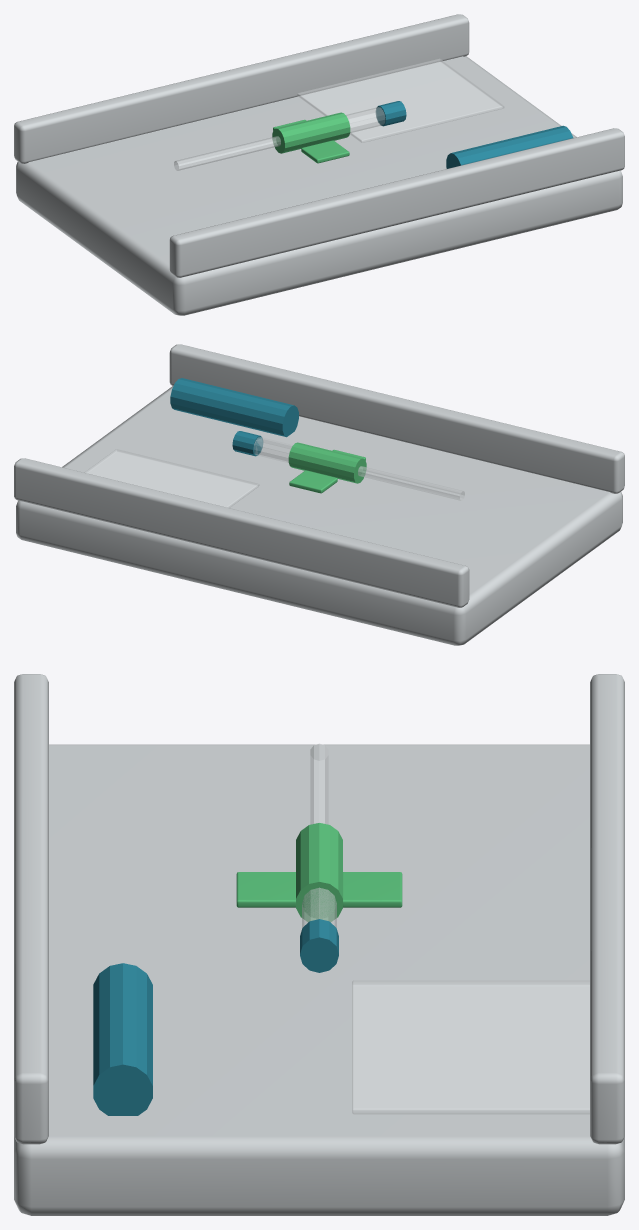
File: iv_cannula_kit.fbx
3 views of the same model, one above another, from view 1: azimuth 30°, elevation 25°; view 2: azimuth 150°, elevation 25°; view 3: azimuth 270°, elevation 25° (orthographic). The views are drawn at different scales.
Visible parts, largest first — view 1: EQ_iv_cannula_kit_Body, EQ_iv_cannula_kit_Rim_S, EQ_iv_cannula_kit_Rim_N, EQ_iv_cannula_kit_Dressing, EQ_iv_cannula_kit_Hub, EQ_iv_cannula_kit_Tourniquet, EQ_iv_cannula_kit_Catheter, EQ_iv_cannula_kit_WingL, EQ_iv_cannula_kit_Port, EQ_iv_cannula_kit_Cap; view 2: EQ_iv_cannula_kit_Body, EQ_iv_cannula_kit_Rim_N, EQ_iv_cannula_kit_Rim_S, EQ_iv_cannula_kit_Dressing, EQ_iv_cannula_kit_Tourniquet, EQ_iv_cannula_kit_Hub, EQ_iv_cannula_kit_Catheter, EQ_iv_cannula_kit_WingR, EQ_iv_cannula_kit_Port, EQ_iv_cannula_kit_Cap; view 3: EQ_iv_cannula_kit_Body, EQ_iv_cannula_kit_Dressing, EQ_iv_cannula_kit_Rim_N, EQ_iv_cannula_kit_Rim_S, EQ_iv_cannula_kit_Tourniquet, EQ_iv_cannula_kit_Hub, EQ_iv_cannula_kit_WingL, EQ_iv_cannula_kit_WingR, EQ_iv_cannula_kit_Cap, EQ_iv_cannula_kit_Catheter, EQ_iv_cannula_kit_Port.
Part boxes in pixels (box(x1,y1,x2,y2)): EQ_iv_cannula_kit_Body: box(16, 56, 622, 315); EQ_iv_cannula_kit_Rim_S: box(169, 128, 624, 277); EQ_iv_cannula_kit_Rim_N: box(14, 14, 469, 163); EQ_iv_cannula_kit_Dressing: box(297, 59, 504, 142); EQ_iv_cannula_kit_Hub: box(272, 112, 350, 153); EQ_iv_cannula_kit_Tourniquet: box(446, 125, 573, 168); EQ_iv_cannula_kit_Catheter: box(174, 136, 280, 170); EQ_iv_cannula_kit_WingL: box(301, 140, 349, 163); EQ_iv_cannula_kit_Port: box(346, 107, 385, 132); EQ_iv_cannula_kit_Cap: box(376, 101, 406, 126); EQ_iv_cannula_kit_Body: box(16, 386, 622, 645); EQ_iv_cannula_kit_Rim_N: box(14, 458, 469, 607); EQ_iv_cannula_kit_Rim_S: box(169, 344, 624, 493); EQ_iv_cannula_kit_Dressing: box(84, 449, 259, 507); EQ_iv_cannula_kit_Tourniquet: box(170, 378, 298, 437); EQ_iv_cannula_kit_Hub: box(288, 442, 366, 483); EQ_iv_cannula_kit_Catheter: box(358, 466, 464, 500); EQ_iv_cannula_kit_WingR: box(289, 470, 337, 493); EQ_iv_cannula_kit_Port: box(253, 437, 292, 462); EQ_iv_cannula_kit_Cap: box(232, 431, 262, 456); EQ_iv_cannula_kit_Body: box(14, 744, 624, 1215); EQ_iv_cannula_kit_Dressing: box(352, 980, 589, 1114); EQ_iv_cannula_kit_Rim_N: box(590, 674, 624, 1144); EQ_iv_cannula_kit_Rim_S: box(14, 674, 48, 1144); EQ_iv_cannula_kit_Tourniquet: box(93, 963, 152, 1115); EQ_iv_cannula_kit_Hub: box(296, 823, 342, 921); EQ_iv_cannula_kit_WingL: box(236, 872, 295, 907); EQ_iv_cannula_kit_WingR: box(343, 872, 402, 907); EQ_iv_cannula_kit_Cap: box(300, 919, 338, 972); EQ_iv_cannula_kit_Catheter: box(310, 743, 328, 824); EQ_iv_cannula_kit_Port: box(302, 887, 336, 928).
Size of the model in its own units: 0.22 by 0.0405 by 0.14.
